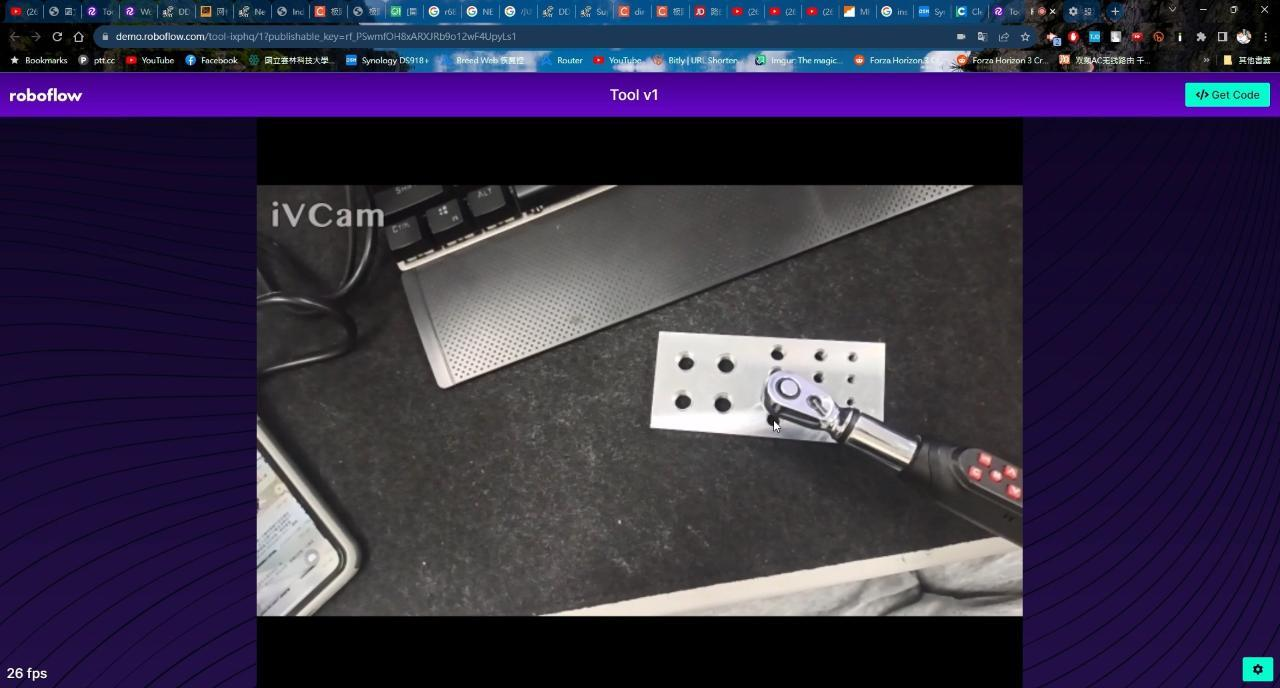Tool: (763, 369, 845, 423)
